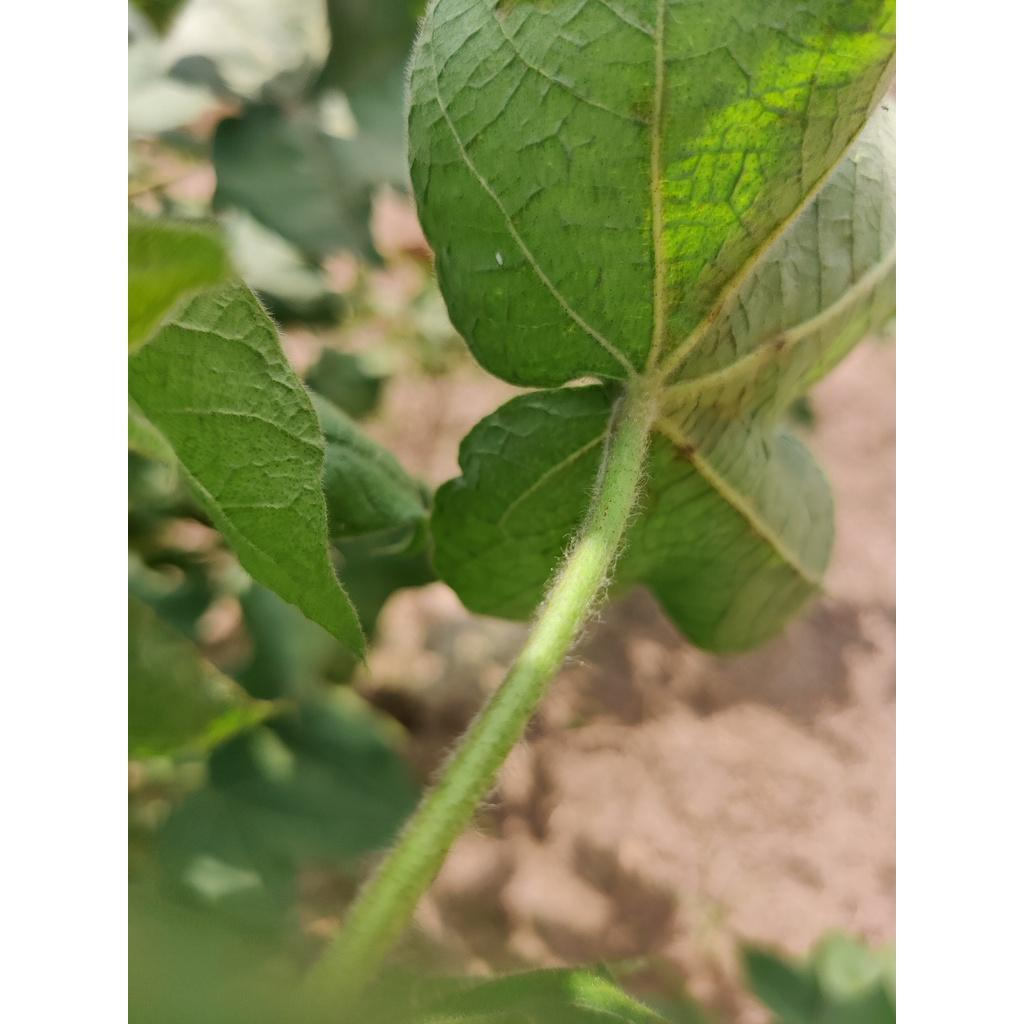adult: (494, 250, 504, 266)
